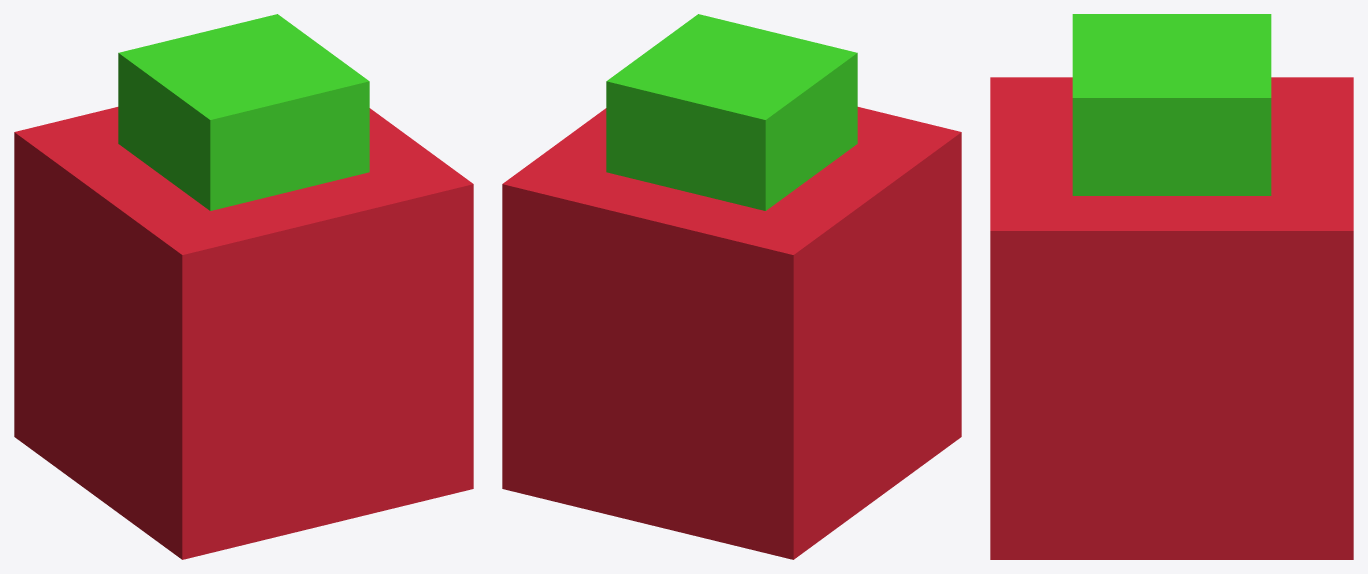
Rendered from point.glb.
3 renders of one model, left to right at view 1: azimuth 30°, elevation 25°; view 2: azimuth 150°, elevation 25°; view 3: azimuth 270°, elevation 25°, orthographic. The views are drawn at different scales.
Visible parts, largest first — view 1: Cube; view 2: Cube; view 3: Cube.
Boxes of the visible parts, x1,y1,x2,y2 form: Cube: (14, 14, 473, 559); Cube: (502, 14, 961, 559); Cube: (990, 14, 1353, 559).
Bounding box in the file's own units: 0.2884 × 0.3745 × 0.2884.
